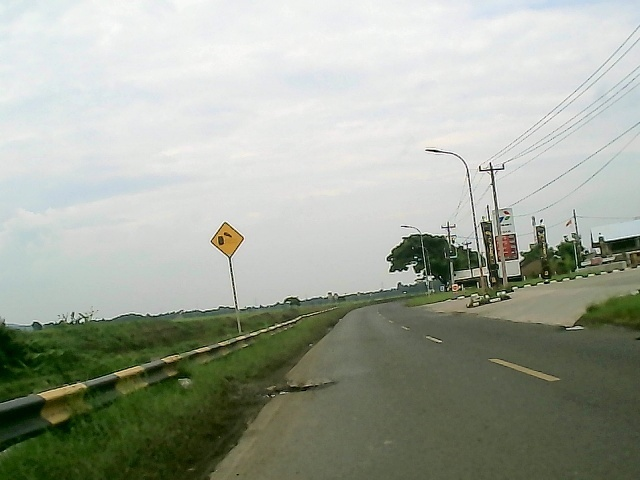Peringatan tepi air: (209, 220, 246, 260)
